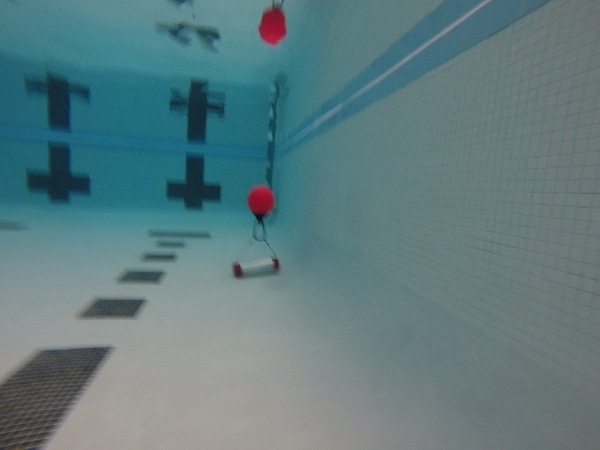buoy_red: (244, 183, 275, 226)
